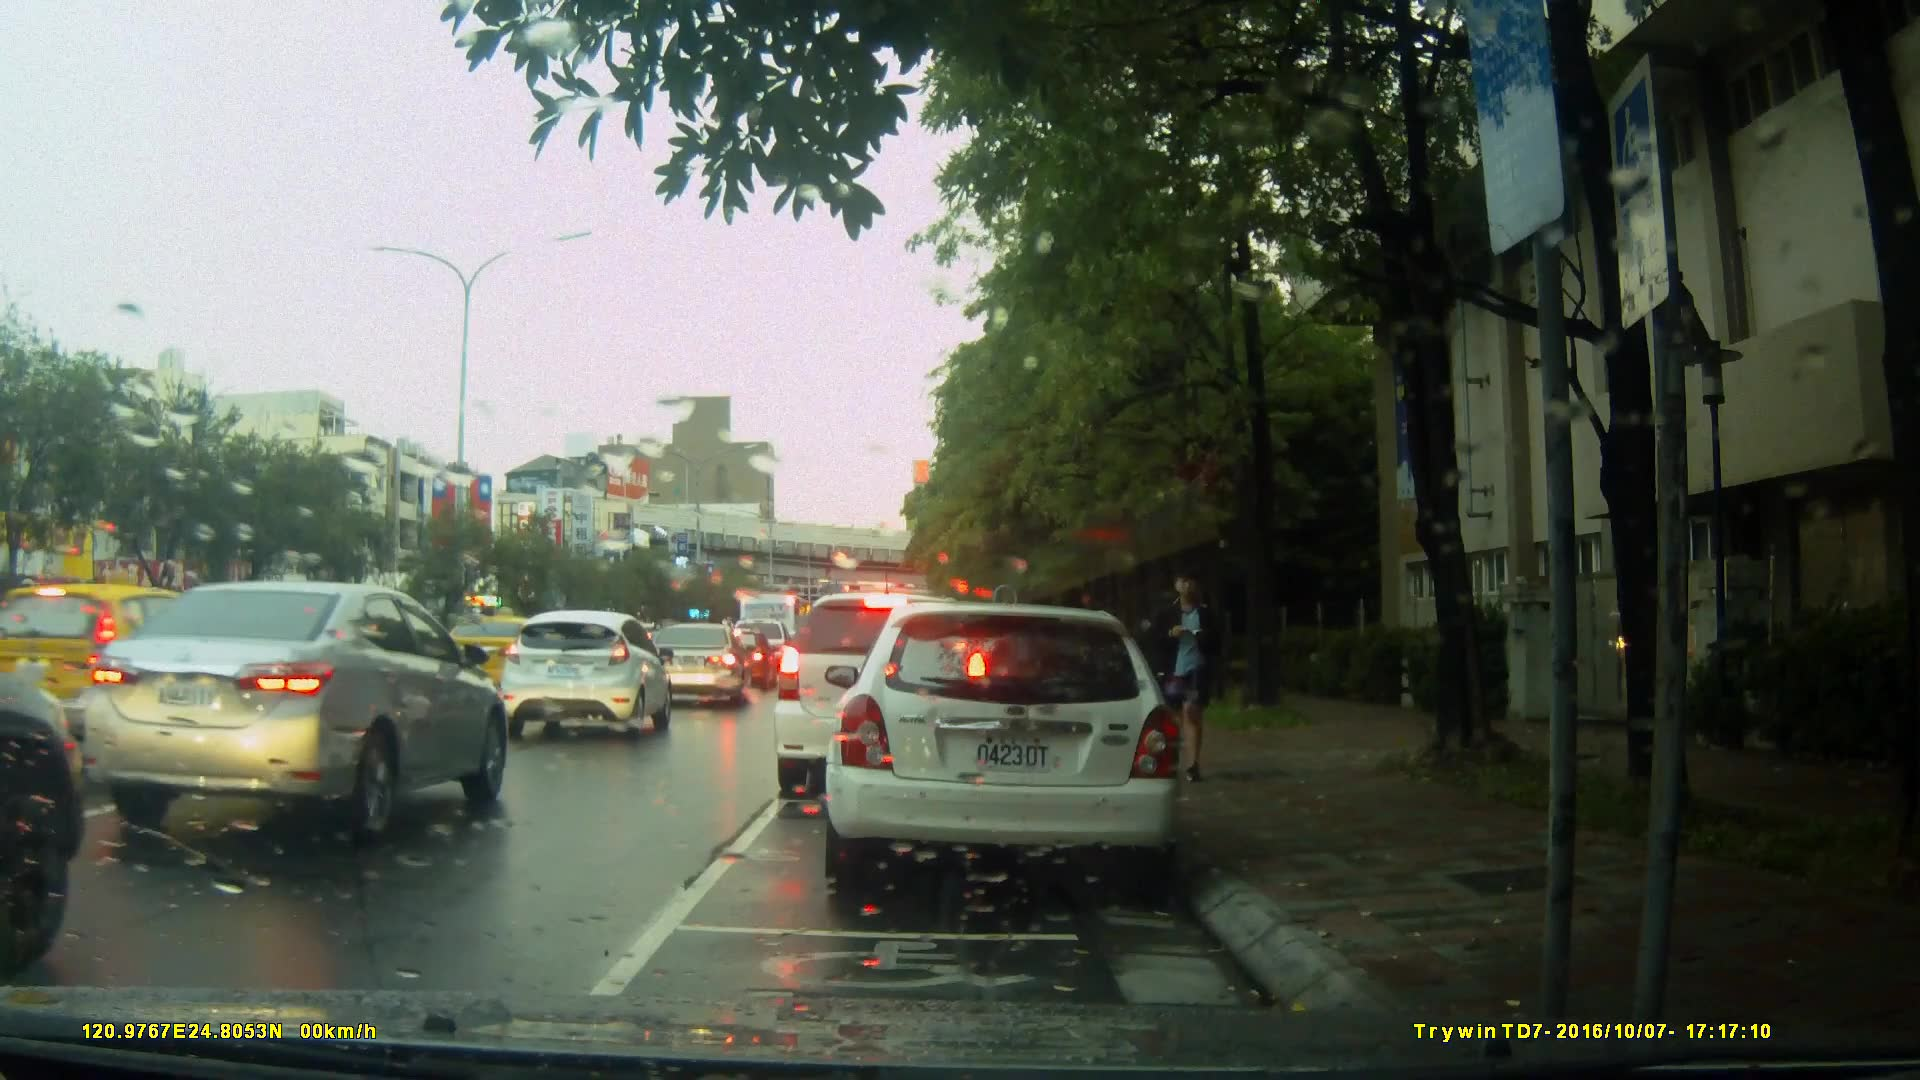pedestrian: (1147, 562, 1219, 751)
vehicle: (79, 578, 516, 843), (835, 594, 1194, 898), (776, 590, 1026, 784), (17, 581, 243, 767), (496, 608, 676, 740), (438, 613, 572, 697), (642, 621, 752, 713), (717, 579, 817, 666), (707, 629, 779, 689)
